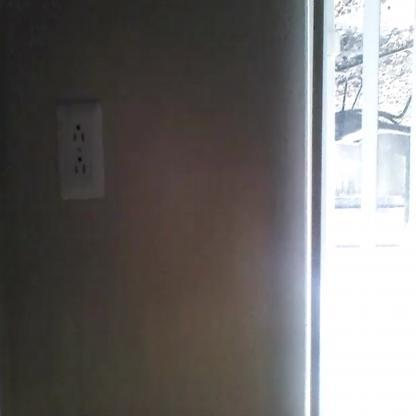OUTLET: (57, 103, 102, 199)
